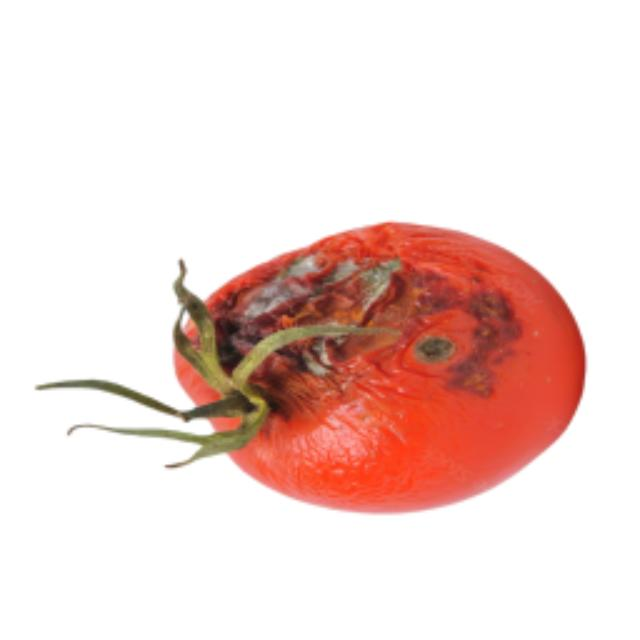defect: (170, 210, 591, 520)
